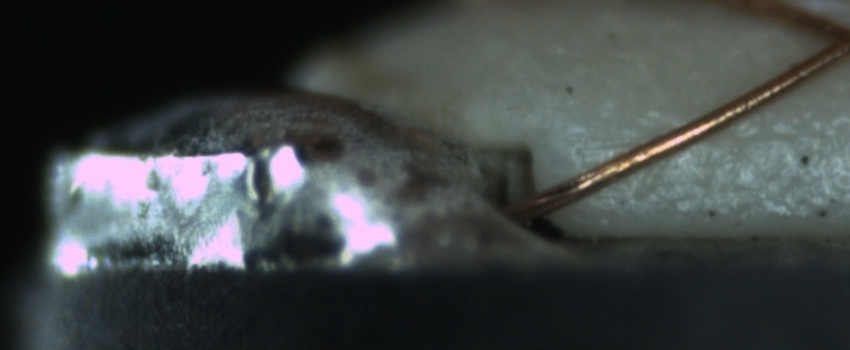CL: (805, 5, 850, 69)
DL: (602, 106, 849, 172)
